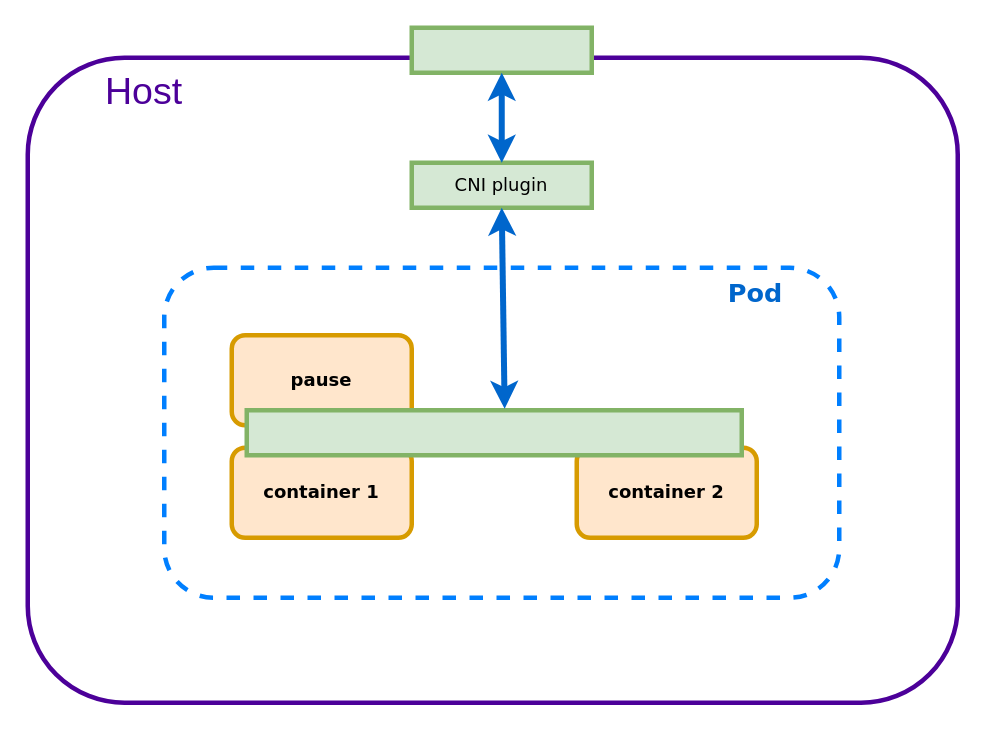
Image size: 986x731. Some labels were removed from this diagram. Here are the shapes that lost their labels. From the top down, the centre of each, then its label:
At point (501, 49): "eth0 : 10.2.1.24".
At point (493, 432): "veth0 : 192.168.100.1".
